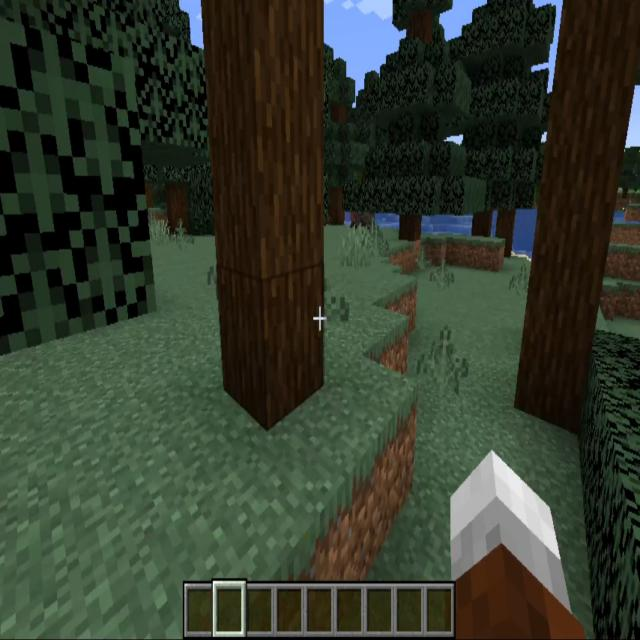Spider: (350, 210, 378, 235)
